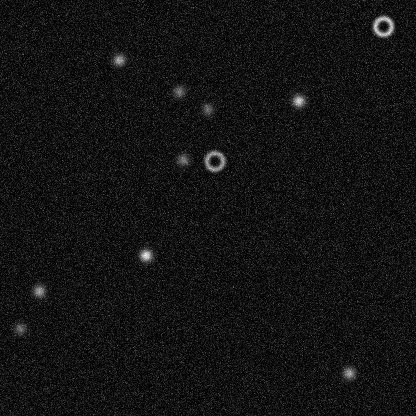Ring: (371, 14, 395, 38), (202, 148, 226, 172)
Spot: (110, 51, 126, 67), (137, 247, 153, 263), (290, 92, 306, 108), (170, 83, 186, 99), (341, 364, 357, 380), (199, 101, 215, 117), (11, 320, 27, 336), (31, 282, 47, 298), (174, 151, 190, 167)
